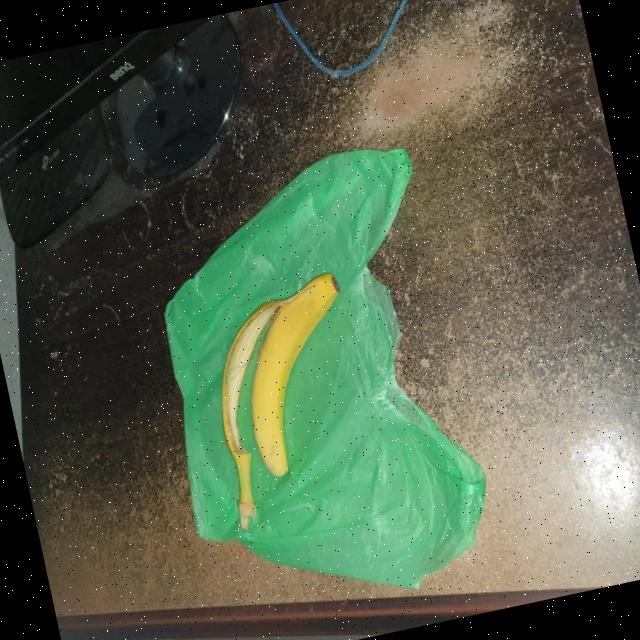banana-peel: (223, 268, 374, 481), (193, 294, 329, 530)
